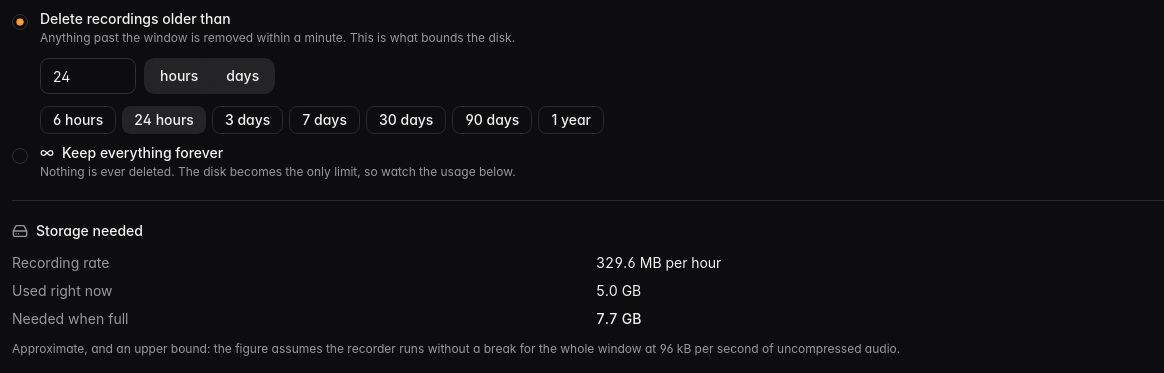
Test case: the retention settings card › changing the window › shows typed hours that make whole days back in days
Replace the text in the number field named "Retention amount" with "48" at [88, 76], box x1=40 y1=58 x2=136 y2=94
Then press Enter
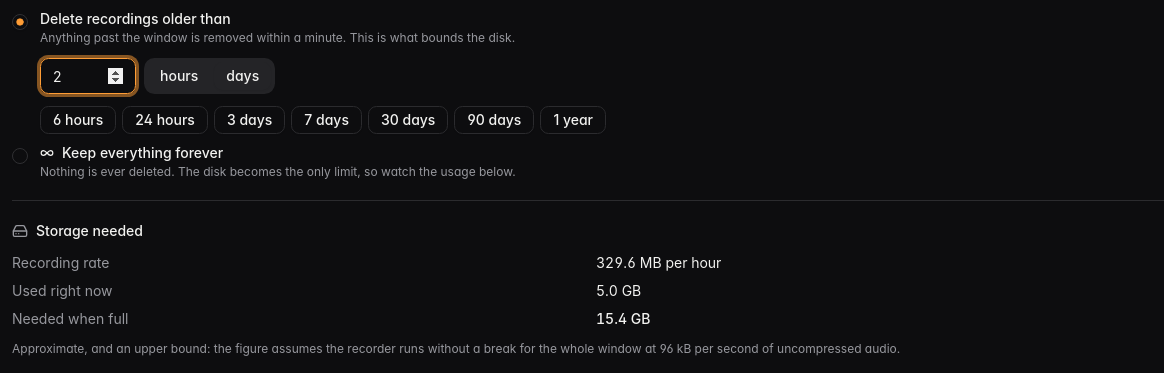
Expected: the number field named "Retention amount" holds "2", x1=40 y1=58 x2=136 y2=94
